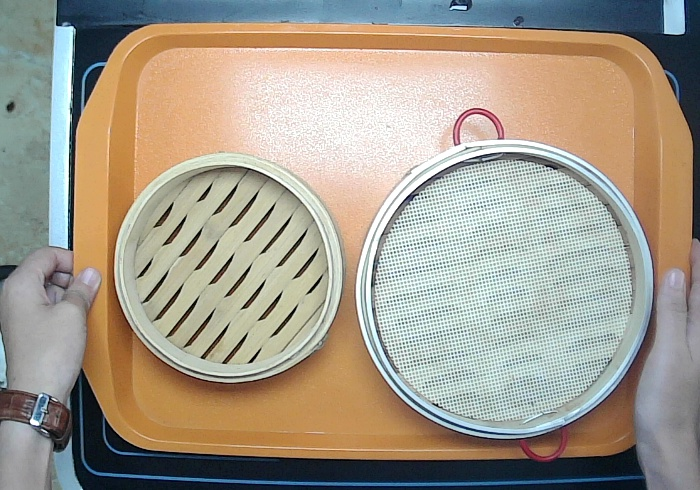ZNLD-Da_Zheng_Long: (353, 103, 656, 464)
ZNLD-Xiao_Zheng_Long: (112, 152, 343, 388)
